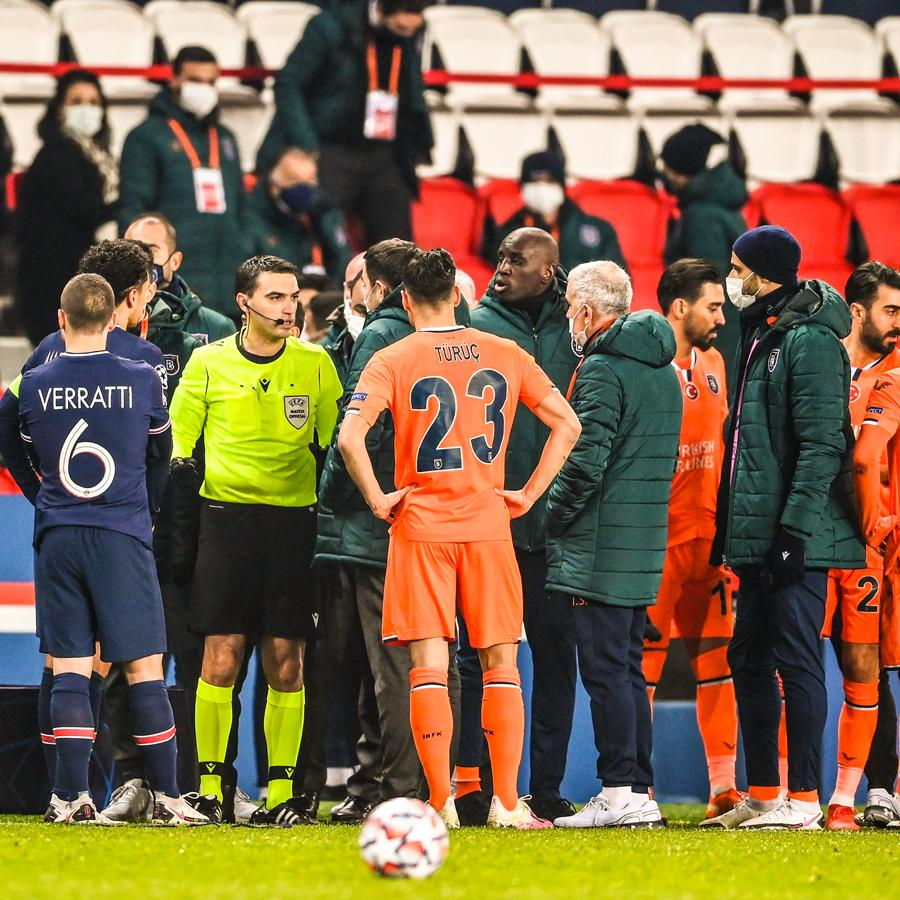ball: (358, 797, 448, 880)
